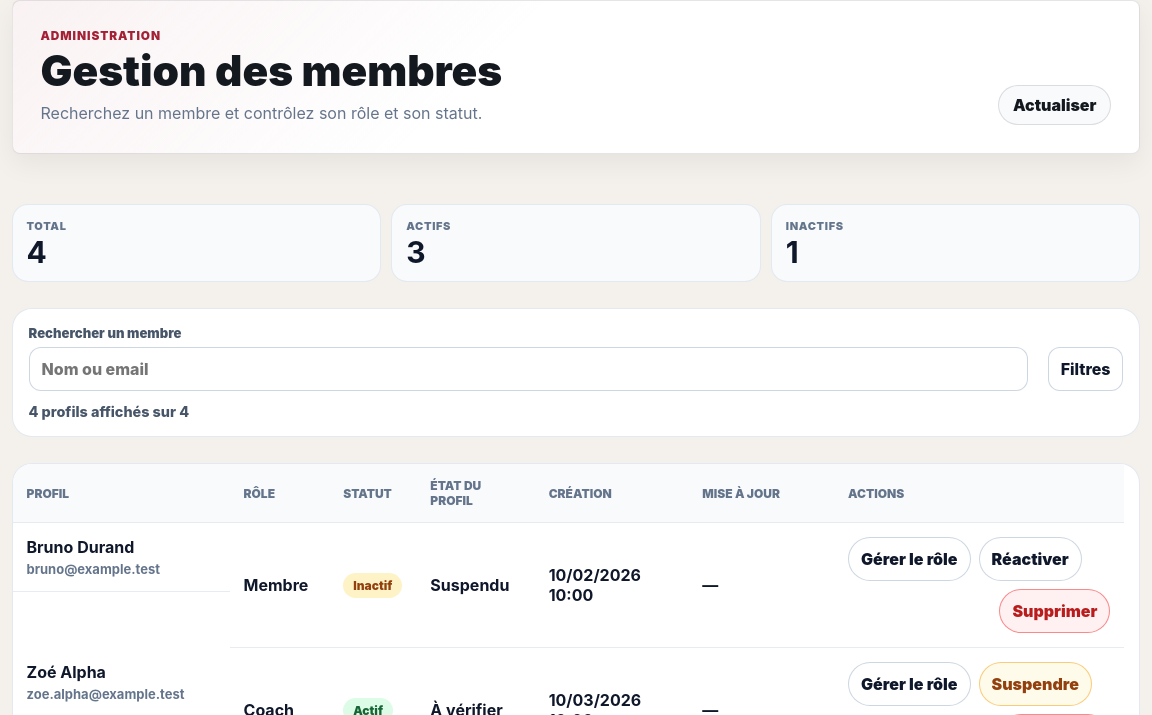
Test: recherche et filtres des membres › filtre par rôle et par statut actif ou inactif
Click the heading "Filtres" at (1086, 370), box [1048,348,1124,392]
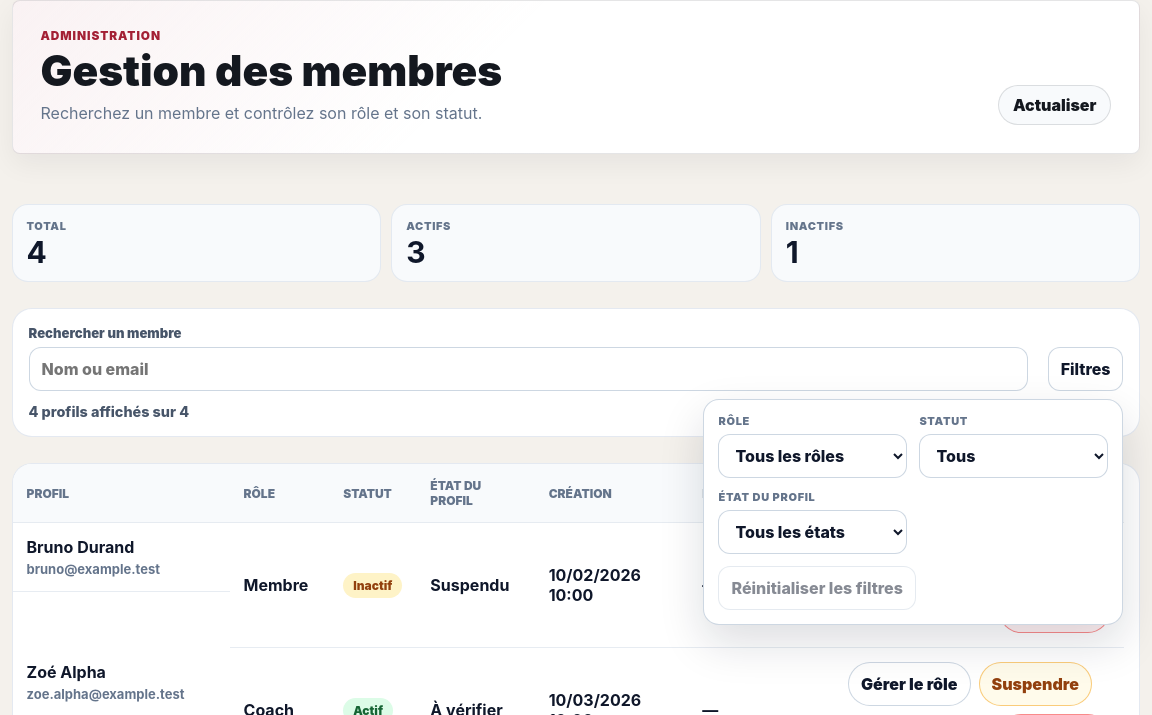
Select "Coach" in the dropdown labelled "Rôle" at (813, 456), box [718,434,908,478]
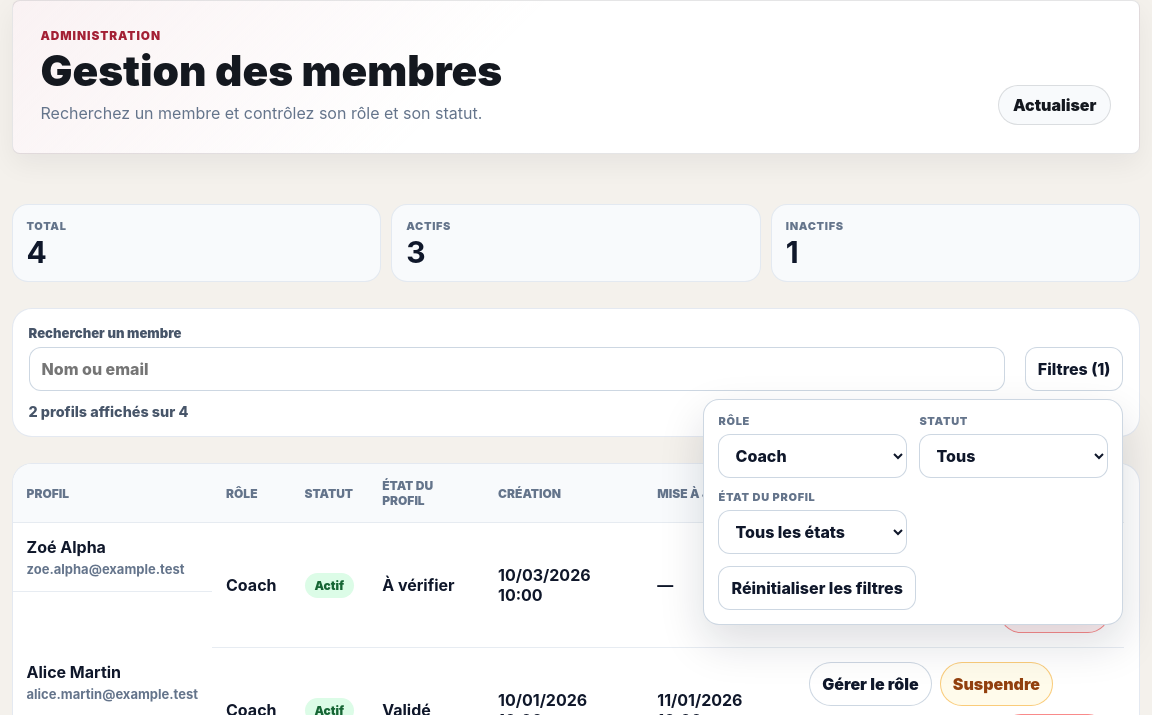
Select "Inactifs" in the dropdown labelled "Statut" at (1014, 456), box [920,434,1108,478]
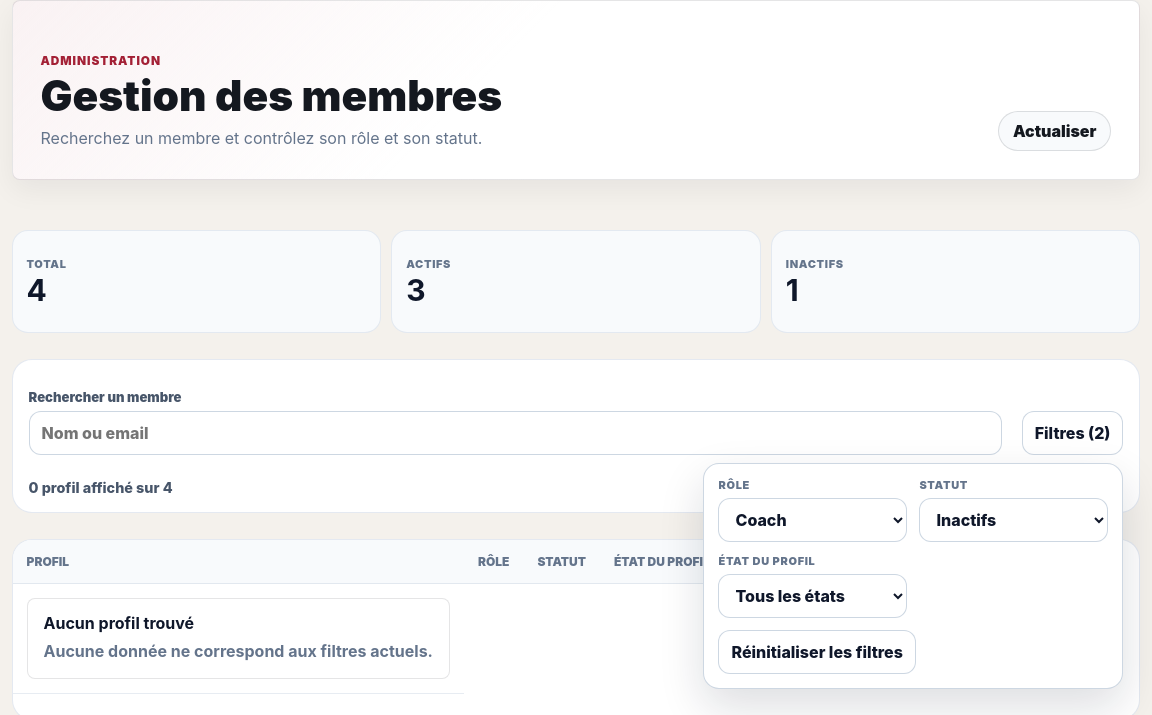
Result: the text "Aucun profil trouvé" is shown at [44,614,194,634]
Select "Membre" in the dropdown labelled "Rôle" at (813, 520), box [718,498,908,542]
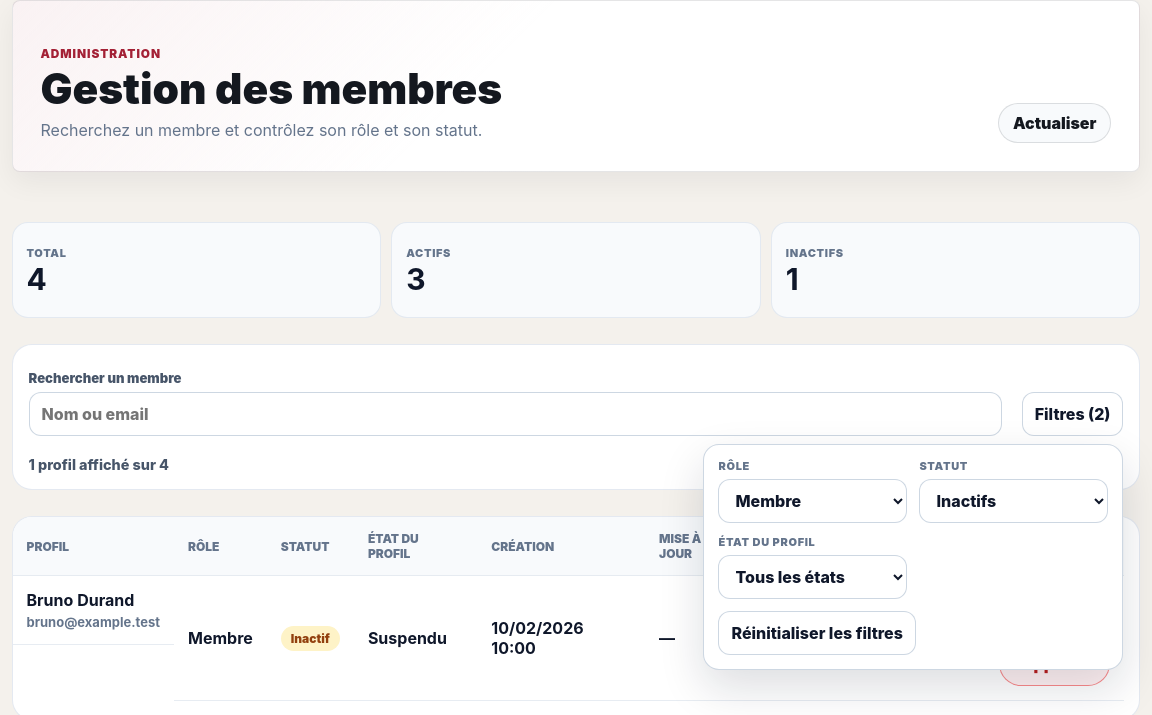
Result: the text "Bruno Durand" is shown at [26,590,134,610]
